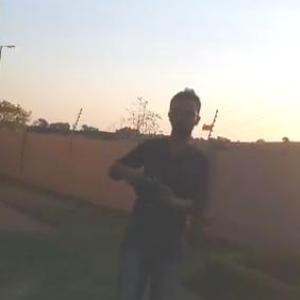follow: (104, 82, 220, 299)
